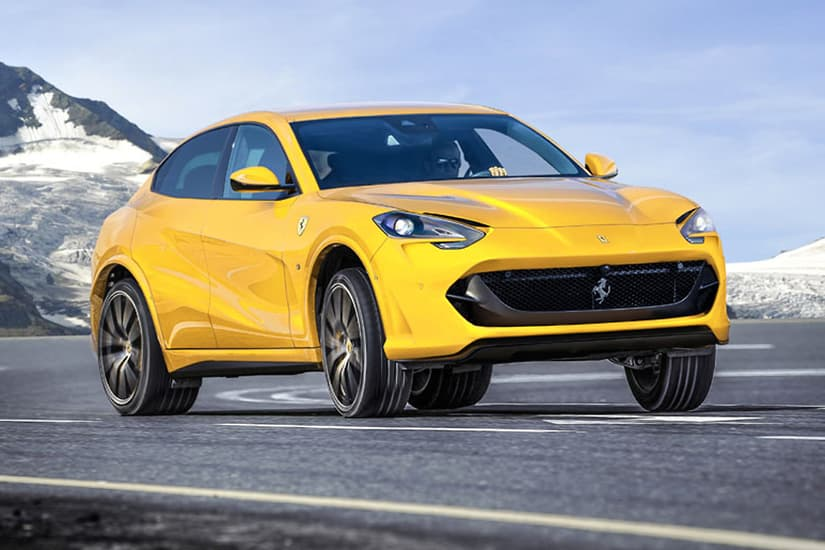car: (88, 100, 730, 420)
